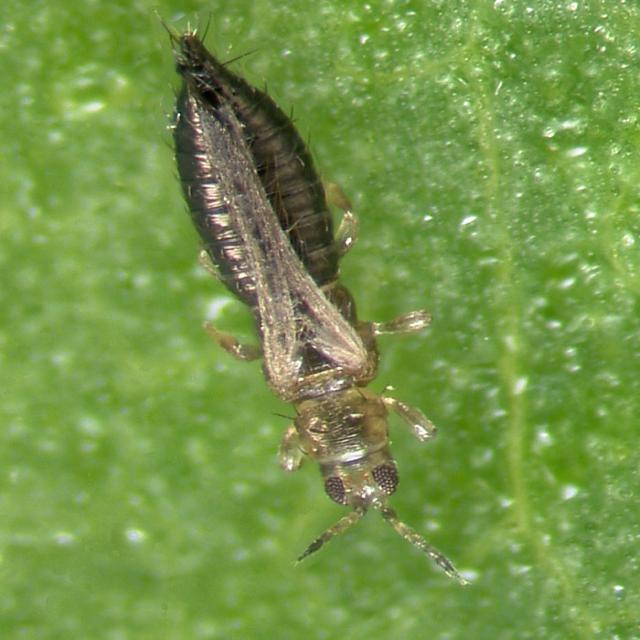thrip: (160, 23, 464, 600)
